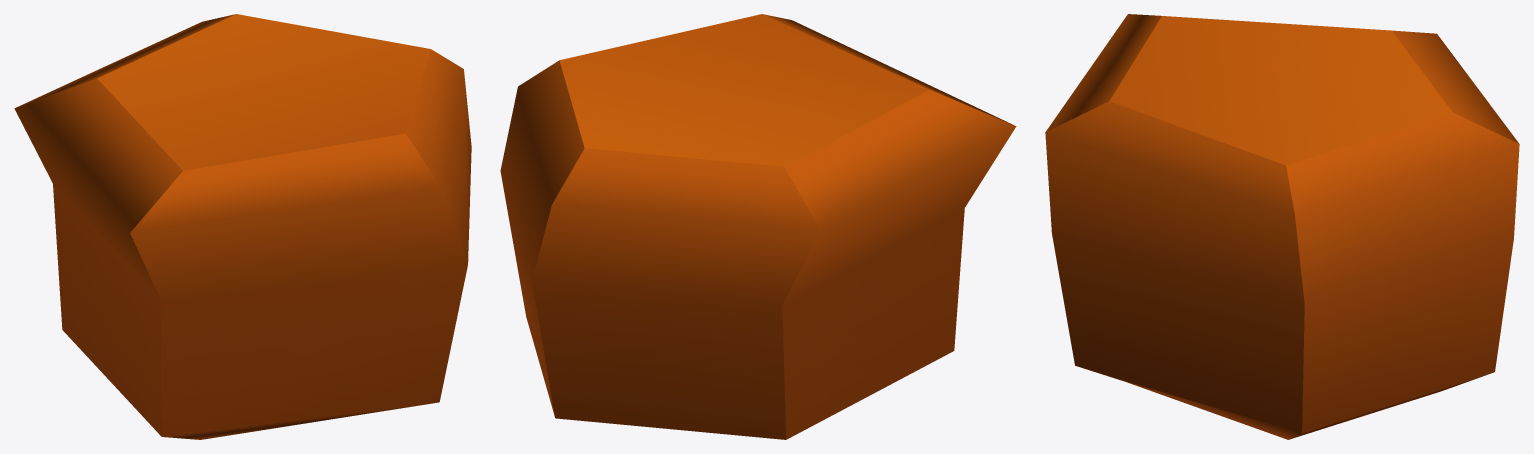
The model's file is Desert_RoundRock02.fbx.
The picture shows the model from 3 angles, left to right: view 1: azimuth 30°, elevation 25°; view 2: azimuth 150°, elevation 25°; view 3: azimuth 270°, elevation 25°; orthographic projection.
Parts seen in each view (by area): view 1: Desert_RoundRock02:pCylinder1; view 2: Desert_RoundRock02:pCylinder1; view 3: Desert_RoundRock02:pCylinder1.
Boxes of the visible parts, x1,y1,x2,y2 form: Desert_RoundRock02:pCylinder1: (14,14,471,439); Desert_RoundRock02:pCylinder1: (500,14,1016,439); Desert_RoundRock02:pCylinder1: (1045,14,1519,439).
Size of the model in its own units: 2.48 by 1.59 by 2.4.
Materials: 1 (1 with a texture image).
